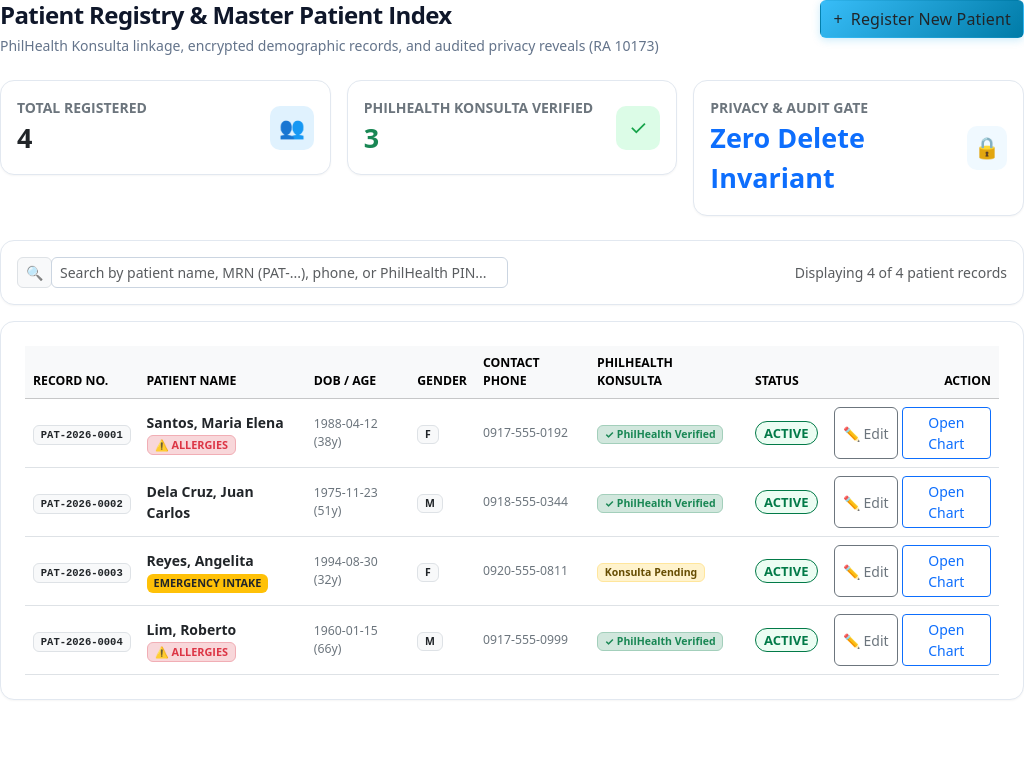
it: Registration duplicate gate (frontend §14.3) › gates submit behind the same-person acknowledgement when a duplicate is detected
Click the button "+ Register New Patient": (922, 19) x1=820 y1=0 x2=1023 y2=38
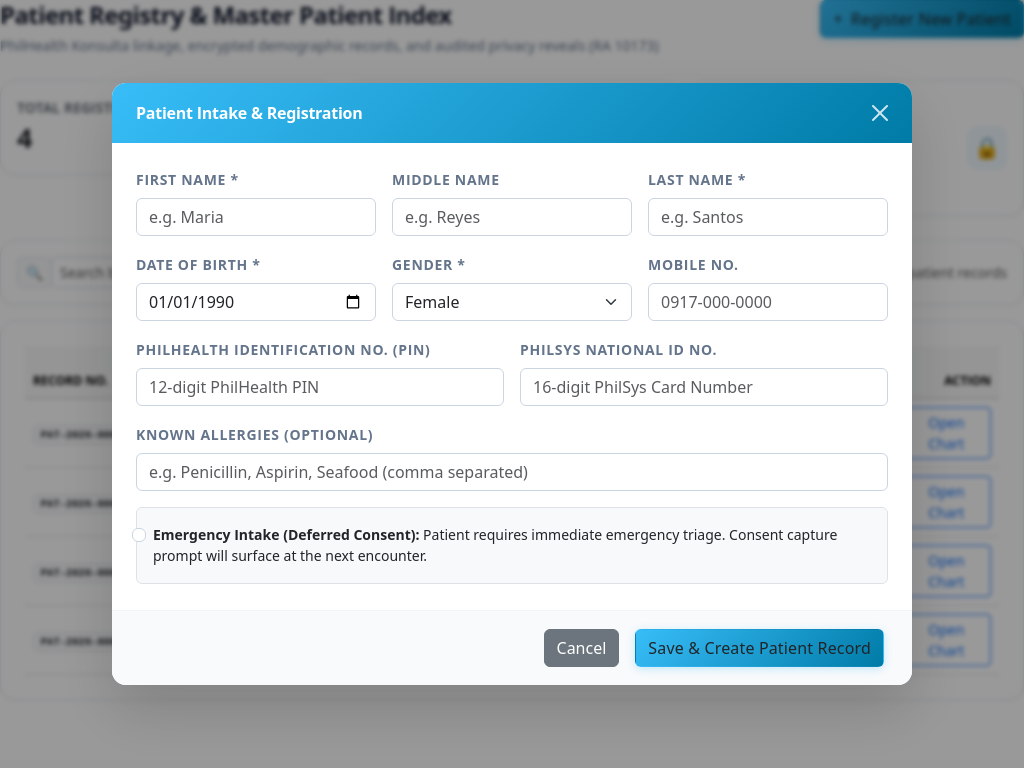
Now the heading "Patient Intake & Registration" is shown, box x1=136 y1=101 x2=362 y2=125
# Santos + 1988-04-12 collides with the seeded demo record.
In the field with placeholder "e.g. Maria": (256, 217) x1=136 y1=198 x2=376 y2=236, type "Maria Elena"
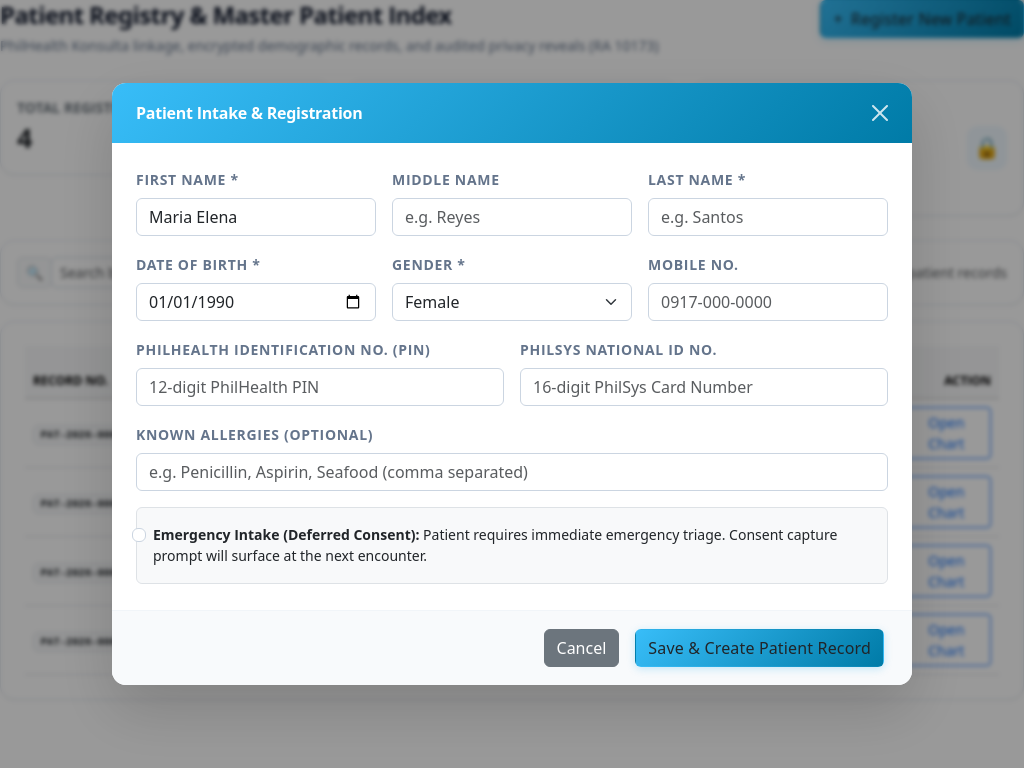
In the field with placeholder "e.g. Santos": (768, 217) x1=648 y1=198 x2=888 y2=236, type "Santos"
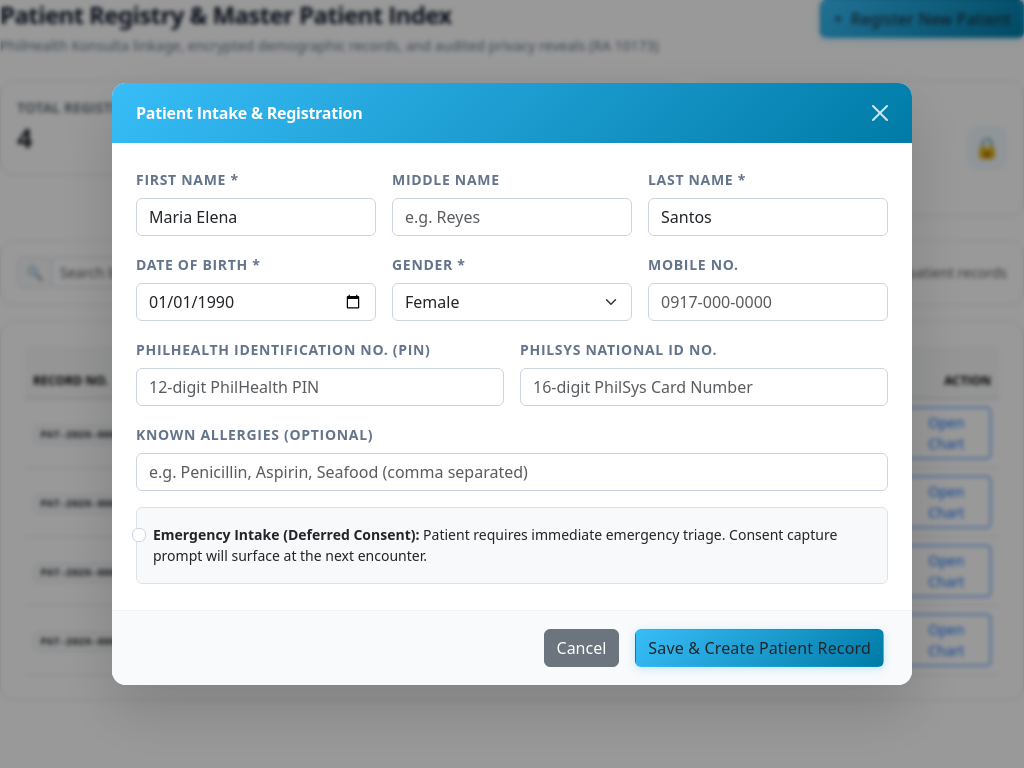
In the date field showing "1990-01-01": (256, 302) x1=136 y1=283 x2=376 y2=321, type "1988-04-12"
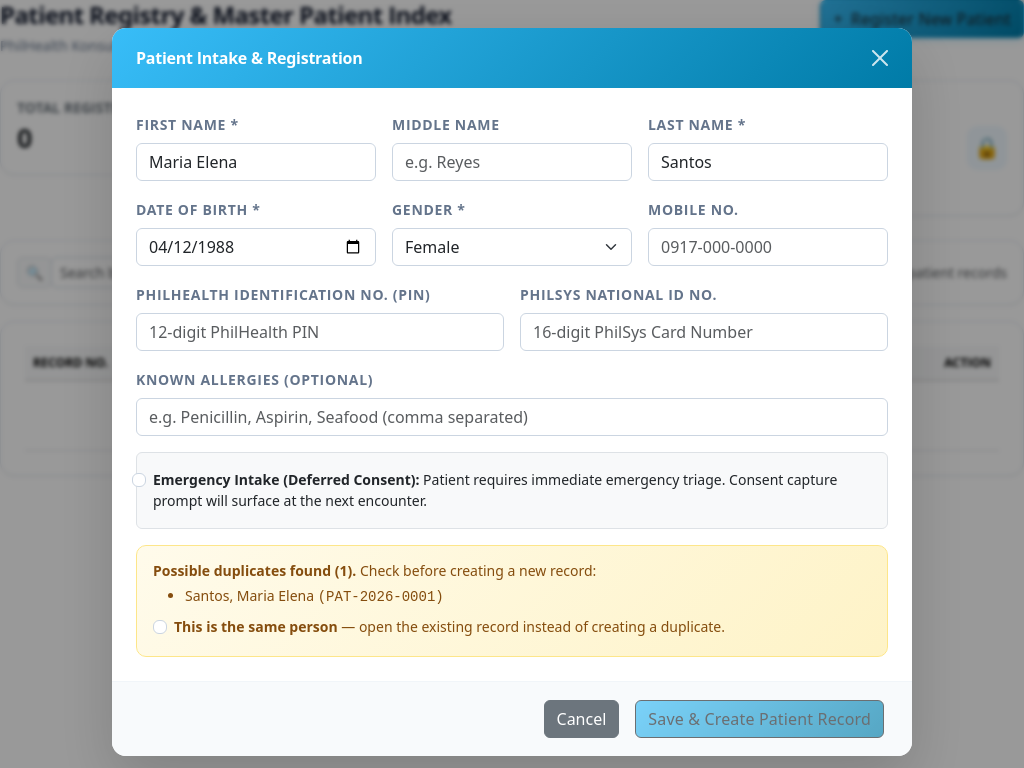
Now the text "Possible duplicates found (1)." is shown, box x1=153 y1=561 x2=356 y2=580
Now the text "(PAT-2026-0001)" is shown, box x1=318 y1=589 x2=444 y2=605
Now the button "Save & Create Patient Record" is disabled, box x1=635 y1=700 x2=884 y2=738
Click the checkbox labelled "This is the same person": (160, 626) x1=153 y1=620 x2=167 y2=634
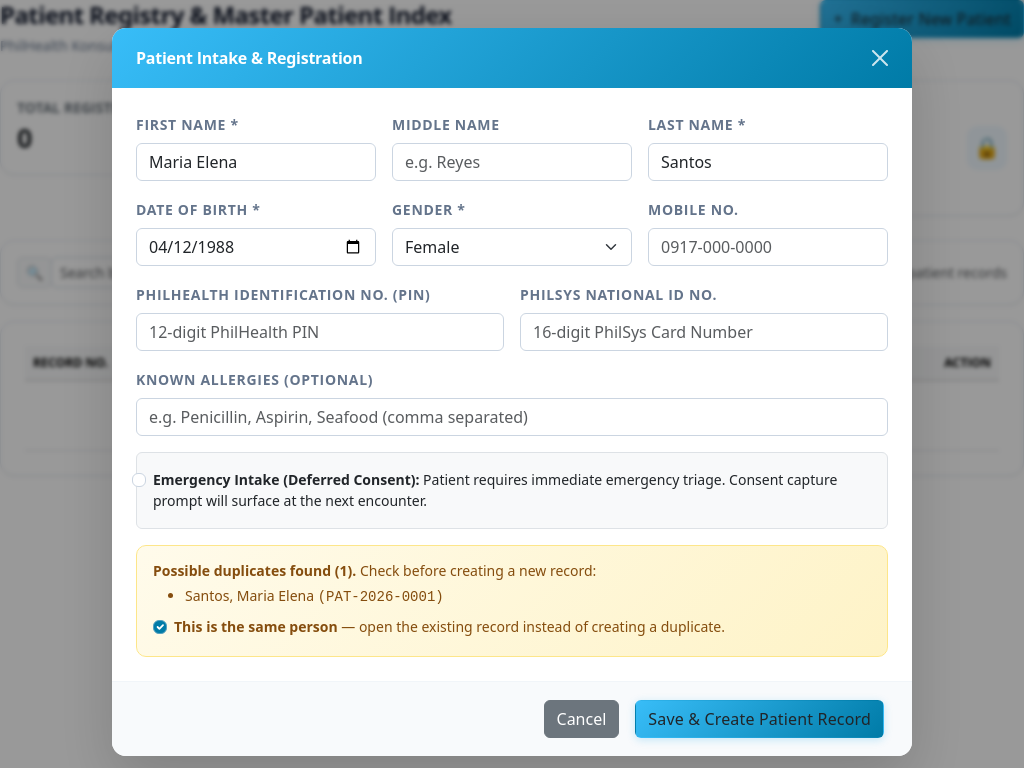
Now the button "Save & Create Patient Record" is enabled, box x1=635 y1=700 x2=884 y2=738
